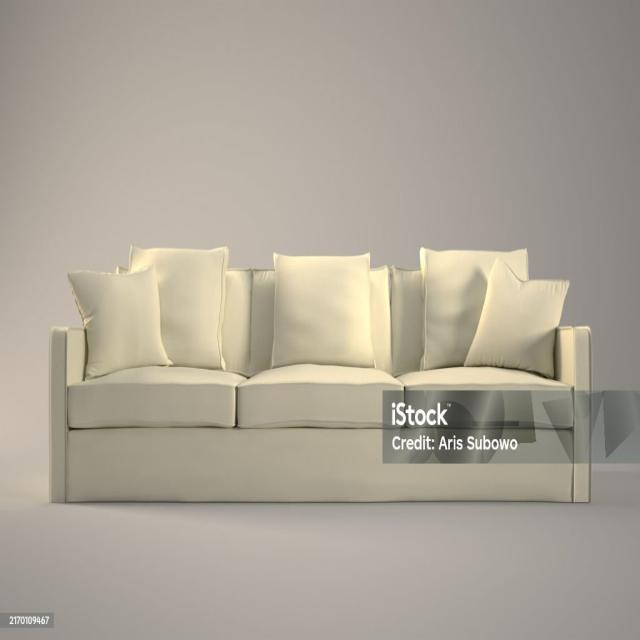back_cushion: (68, 246, 569, 379)
base: (67, 427, 572, 501)
left_arm: (554, 327, 592, 501)
right_arm: (49, 328, 85, 502)
seat_cushion: (68, 365, 572, 428)
stallion-sofa1: (0, 3, 639, 639)
